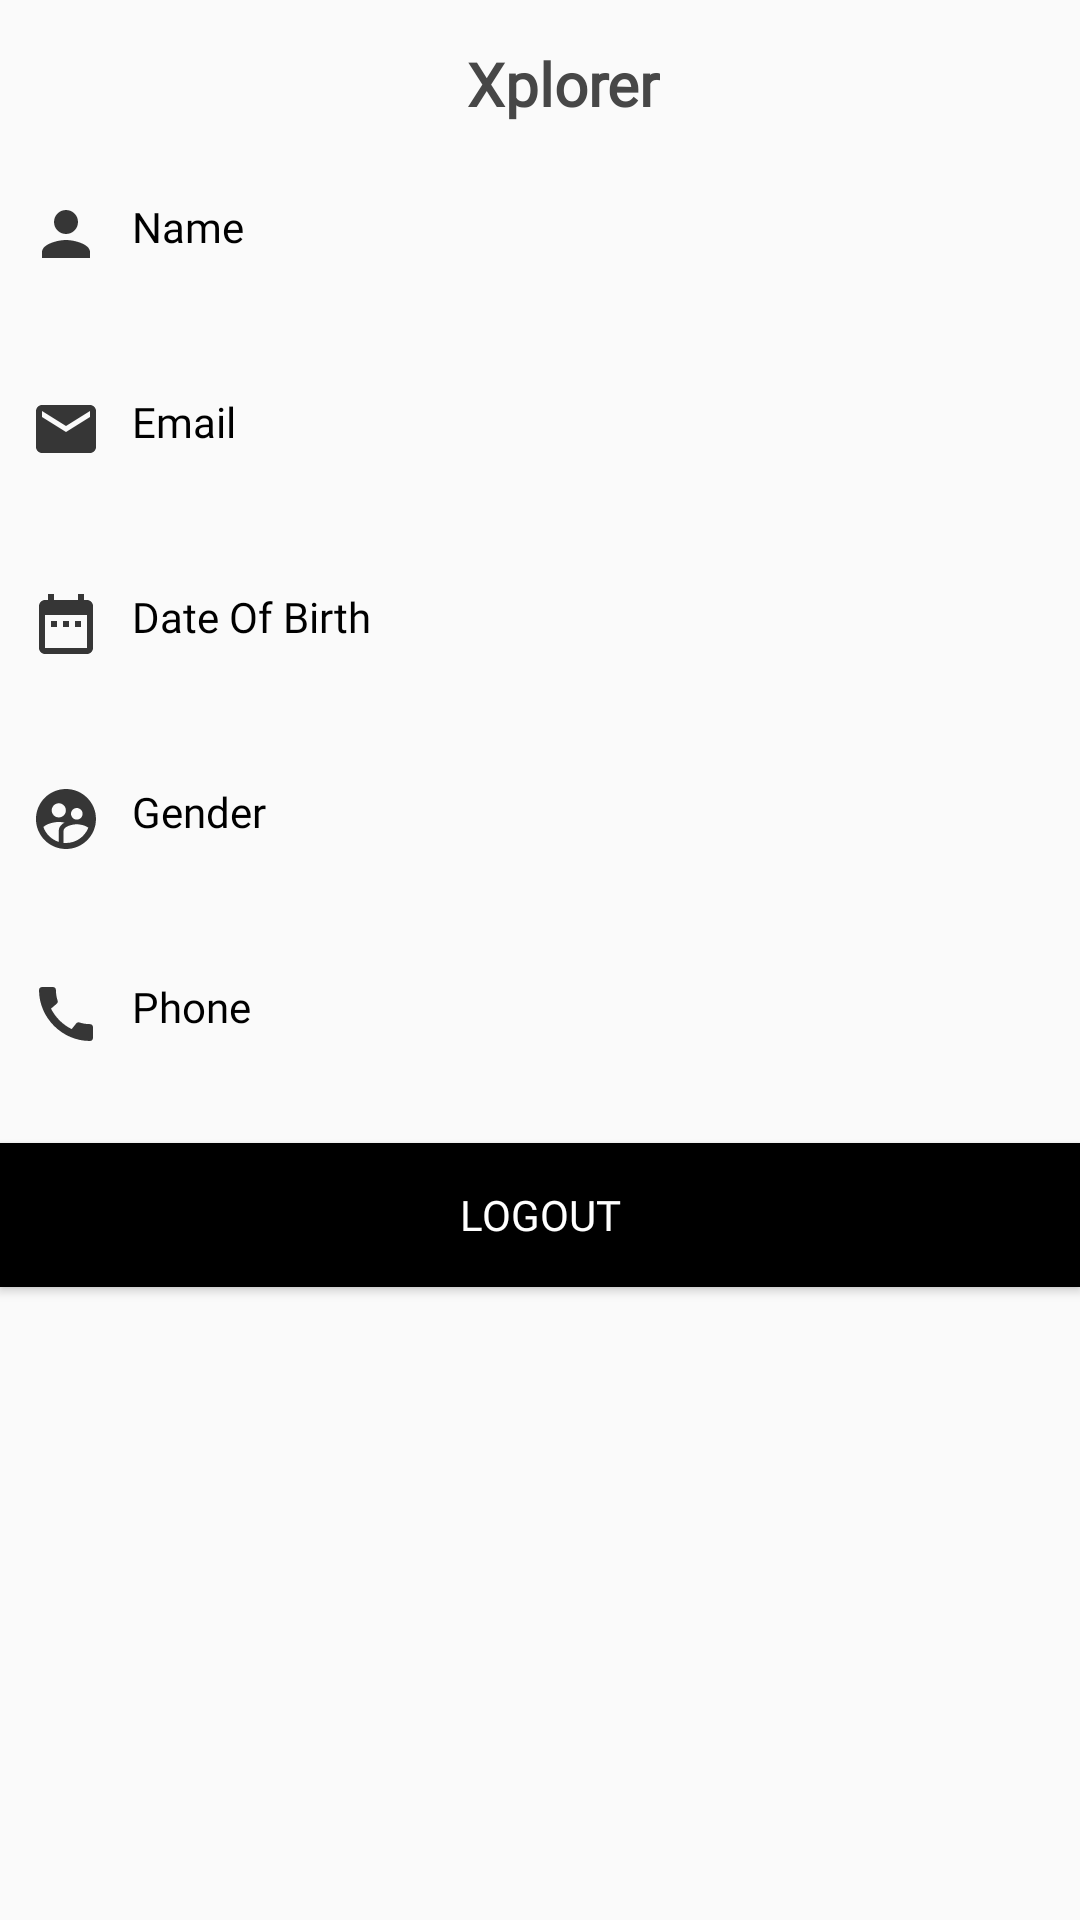

Point at icon controls on the screen. Image size 1080w x 1920h, points as (x=x, y=y).
profile: (x=66, y=234)
